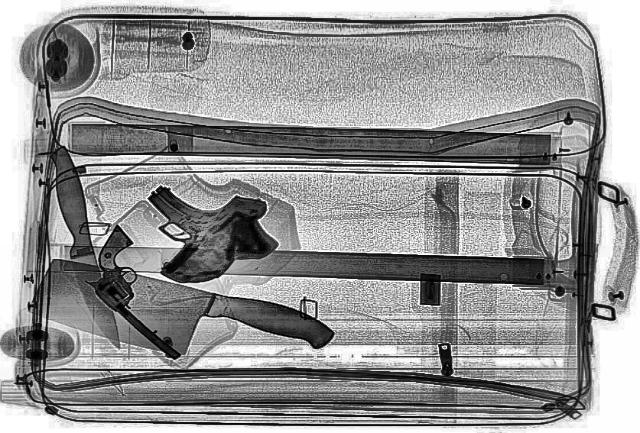Gun: (49, 224, 238, 362), (96, 168, 274, 288)
Knife: (15, 255, 342, 381), (29, 145, 131, 351)
